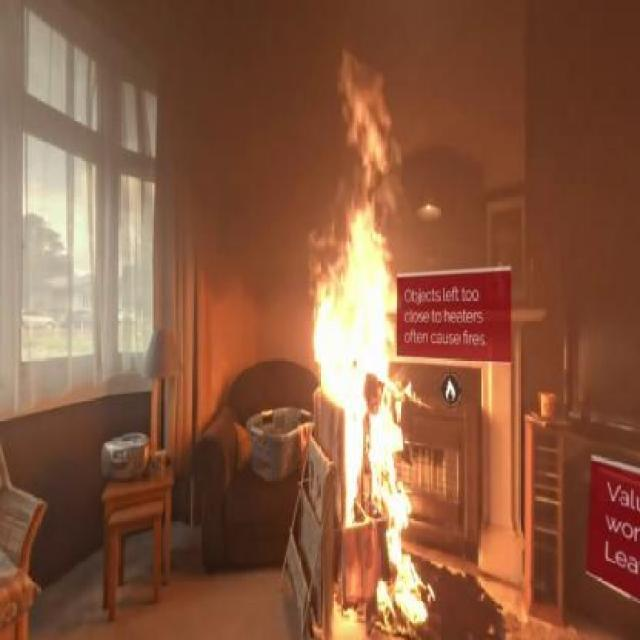smoke: (288, 10, 503, 588)
